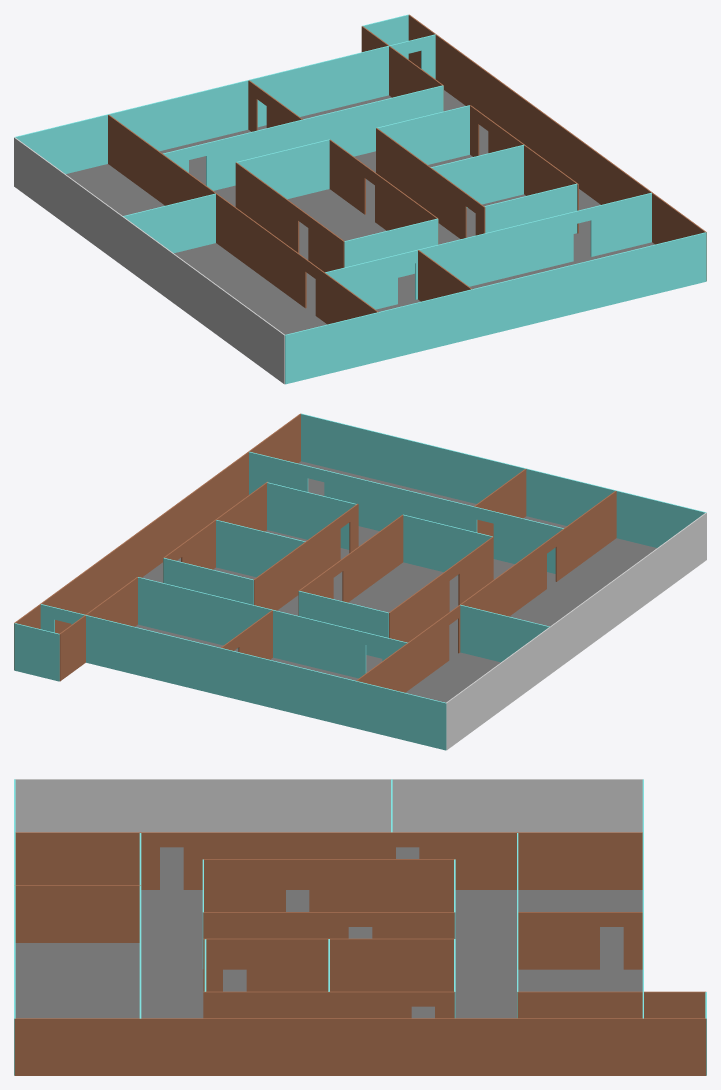
Rendered from Floor2.fbx.
3 renders of one model, top to bottom at view 1: azimuth 30°, elevation 25°; view 2: azimuth 150°, elevation 25°; view 3: azimuth 270°, elevation 25°, orthographic. The views are drawn at different scales.
Visible parts, largest first — view 1: Wall103, Wall104, Floor101, Wall102, Wall118, Wall101, Wall105, Wall113, Wall109, Wall111, Wall110, Wall116 (+10 smaller); view 2: Wall104, Wall103, Floor101, Wall102, Wall113, Wall101, Wall105, Wall118, Wall109, Wall111, Wall110, Wall115 (+10 smaller); view 3: Wall101, Floor101, Wall102, Wall105, Wall109, Wall111, Wall112, Wall110, Wall108, Wall107, Wall106, Wall118 (+2 smaller).
Boxes of the visible parts, box(x1,y1,x2,y2) form: Wall103: box(285, 232, 706, 384); Wall104: box(14, 34, 435, 173); Floor101: box(66, 90, 654, 334); Wall102: box(14, 137, 284, 384); Wall118: box(325, 192, 651, 309); Wall101: box(408, 14, 706, 280); Wall105: box(108, 114, 378, 324); Wall113: box(163, 85, 443, 190); Wall109: box(376, 128, 485, 238); Wall111: box(235, 162, 344, 272); Wall110: box(329, 139, 438, 244); Wall116: box(236, 139, 329, 199); Wall104: box(40, 604, 446, 750); Wall103: box(301, 413, 706, 547); Floor101: box(135, 461, 656, 702); Wall102: box(446, 512, 706, 750); Wall113: box(138, 577, 407, 678); Wall101: box(14, 413, 300, 669); Wall105: box(356, 491, 616, 692); Wall118: box(249, 451, 563, 573); Wall109: box(253, 503, 358, 610); Wall111: box(389, 536, 493, 642); Wall110: box(298, 514, 403, 615); Wall115: box(267, 482, 356, 549); Wall101: box(14, 1018, 706, 1075); Floor101: box(15, 847, 642, 1018); Wall102: box(15, 779, 643, 832); Wall105: box(15, 832, 642, 889); Wall109: box(203, 938, 454, 991); Wall111: box(203, 859, 454, 911); Wall112: box(15, 885, 140, 942); Wall110: box(203, 912, 454, 969); Wall108: box(203, 991, 454, 1018); Wall107: box(518, 912, 642, 969); Wall106: box(517, 991, 705, 1018); Wall118: box(139, 833, 141, 1018).
Size of the model in its own units: 3610 by 400 by 4410.
Materials: 3 (2 with a texture image).
